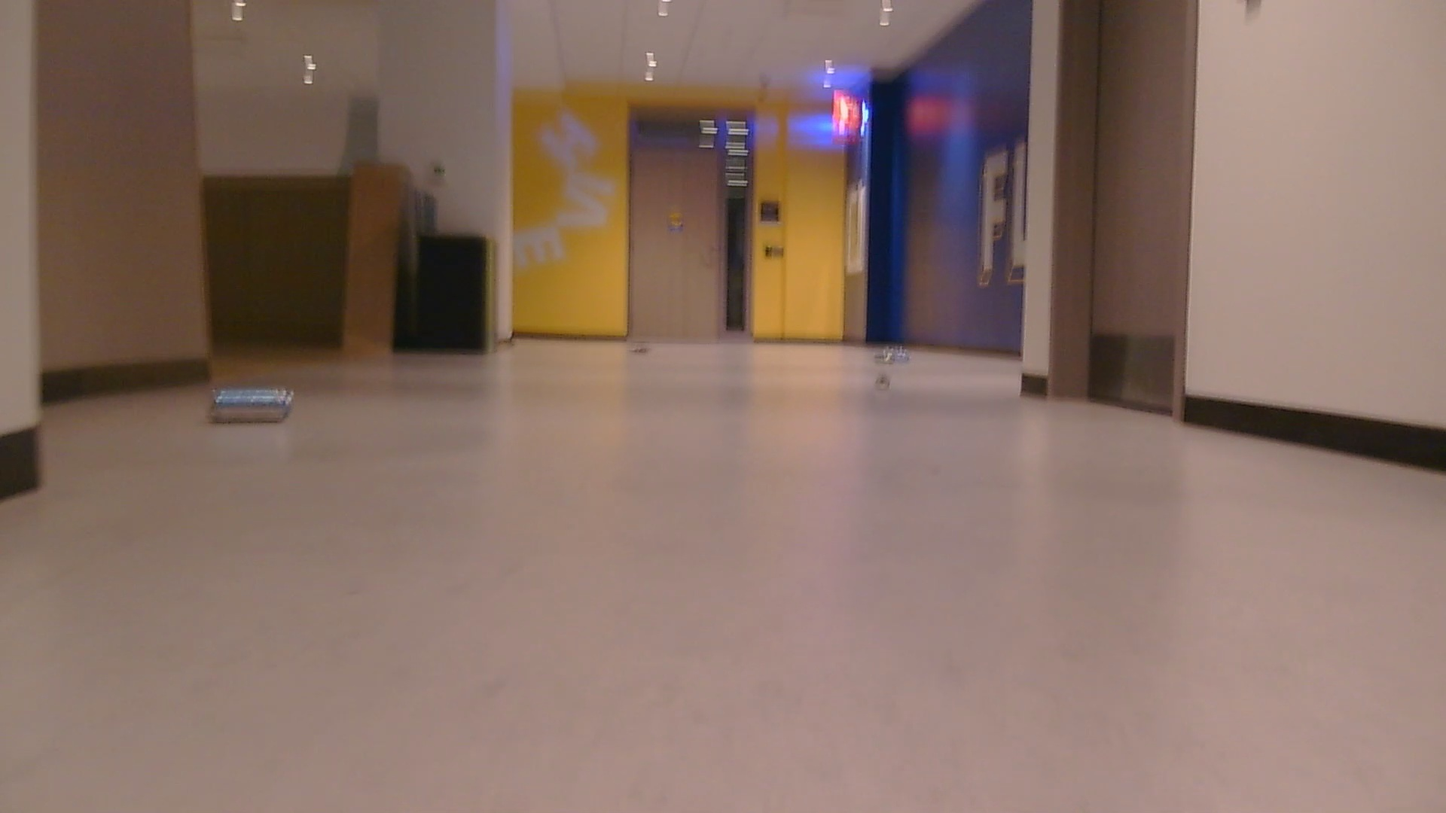carton: (204, 381, 307, 420), (872, 345, 910, 360), (635, 336, 657, 355), (879, 370, 898, 384)
